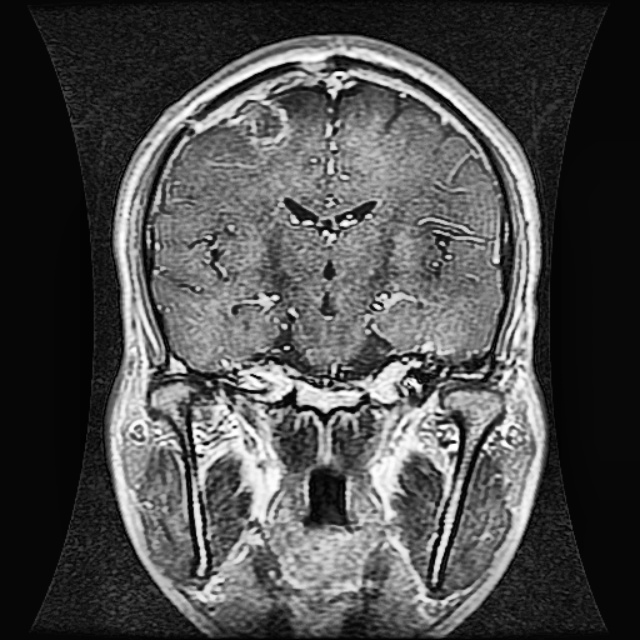Meningioma: (233, 93, 294, 149)
